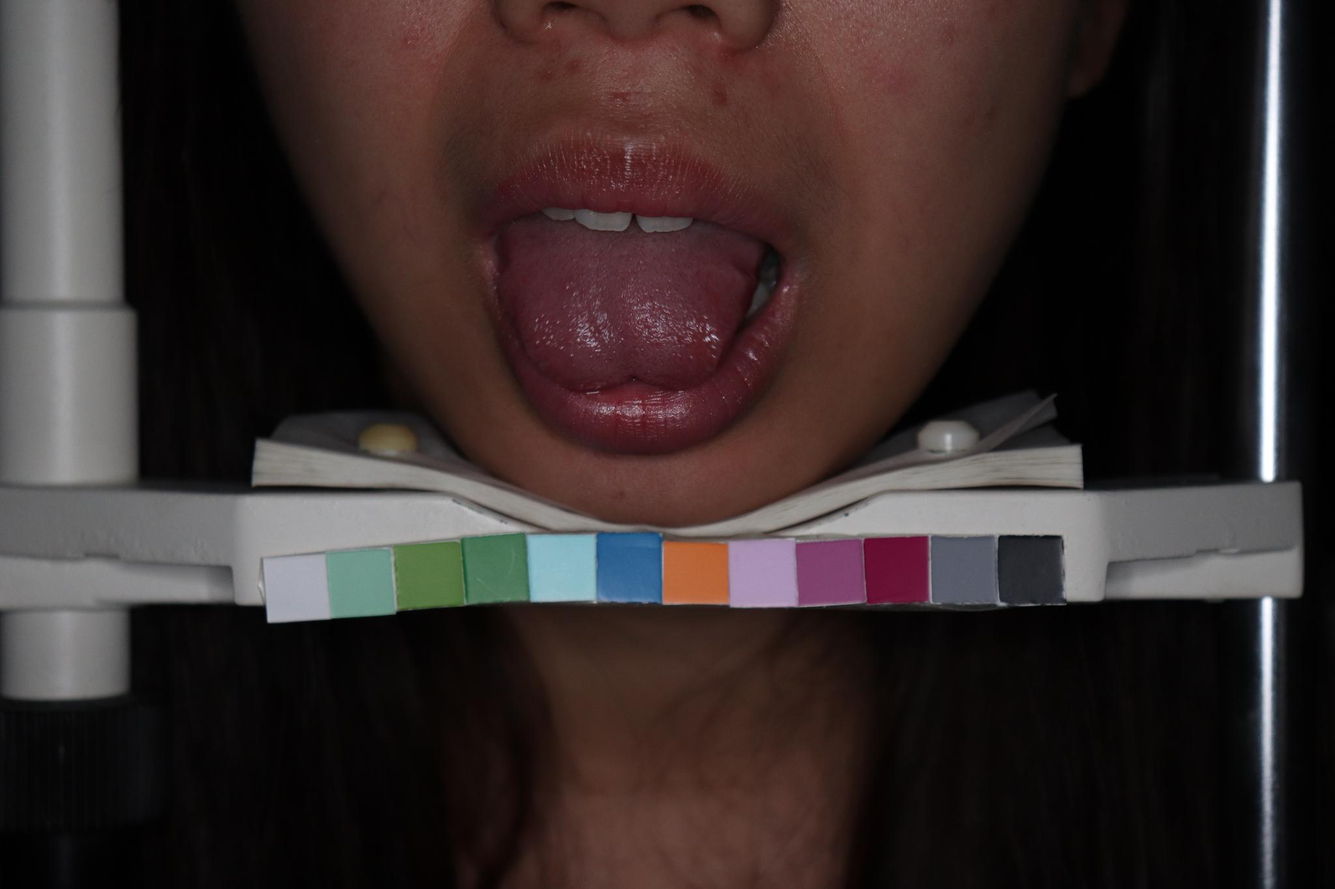baitaishe: (499, 233, 763, 392)
chihenshe: (721, 246, 763, 290)
hongshe: (499, 232, 763, 391)
xinfeiao: (588, 369, 679, 391)
